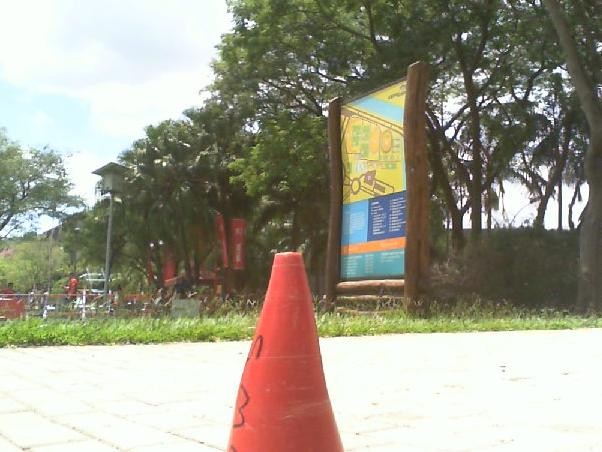0 cone: (224, 252, 345, 452)
